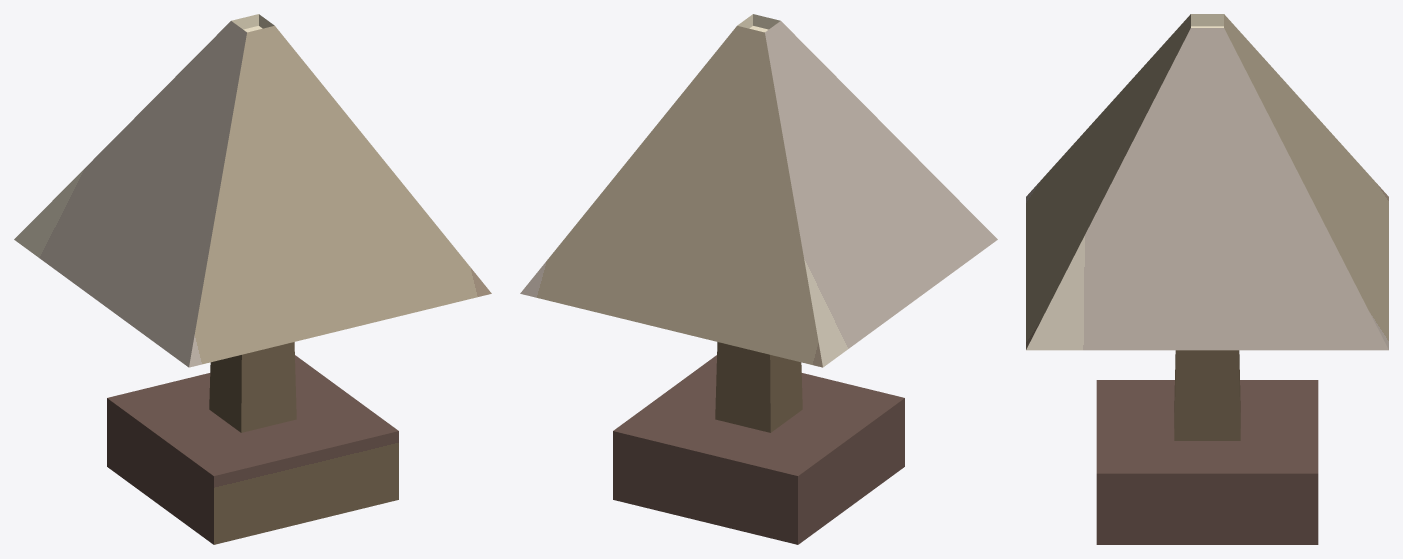
The model's file is Accesories_Lamp.002.glb.
The picture shows the model from 3 angles, left to right: view 1: azimuth 30°, elevation 25°; view 2: azimuth 150°, elevation 25°; view 3: azimuth 270°, elevation 25°; orthographic projection. The views are drawn at different scales.
Visible parts, largest first — view 1: Accesories_Lamp.002; view 2: Accesories_Lamp.002; view 3: Accesories_Lamp.002.
Part boxes in pixels (box(x1,y1,x2,y2)): Accesories_Lamp.002: box(14, 14, 491, 544); Accesories_Lamp.002: box(520, 14, 997, 544); Accesories_Lamp.002: box(1026, 14, 1388, 544).
Bounding box in the file's own units: 0.1306 × 0.1894 × 0.1306.
1 material, 1 textured.
